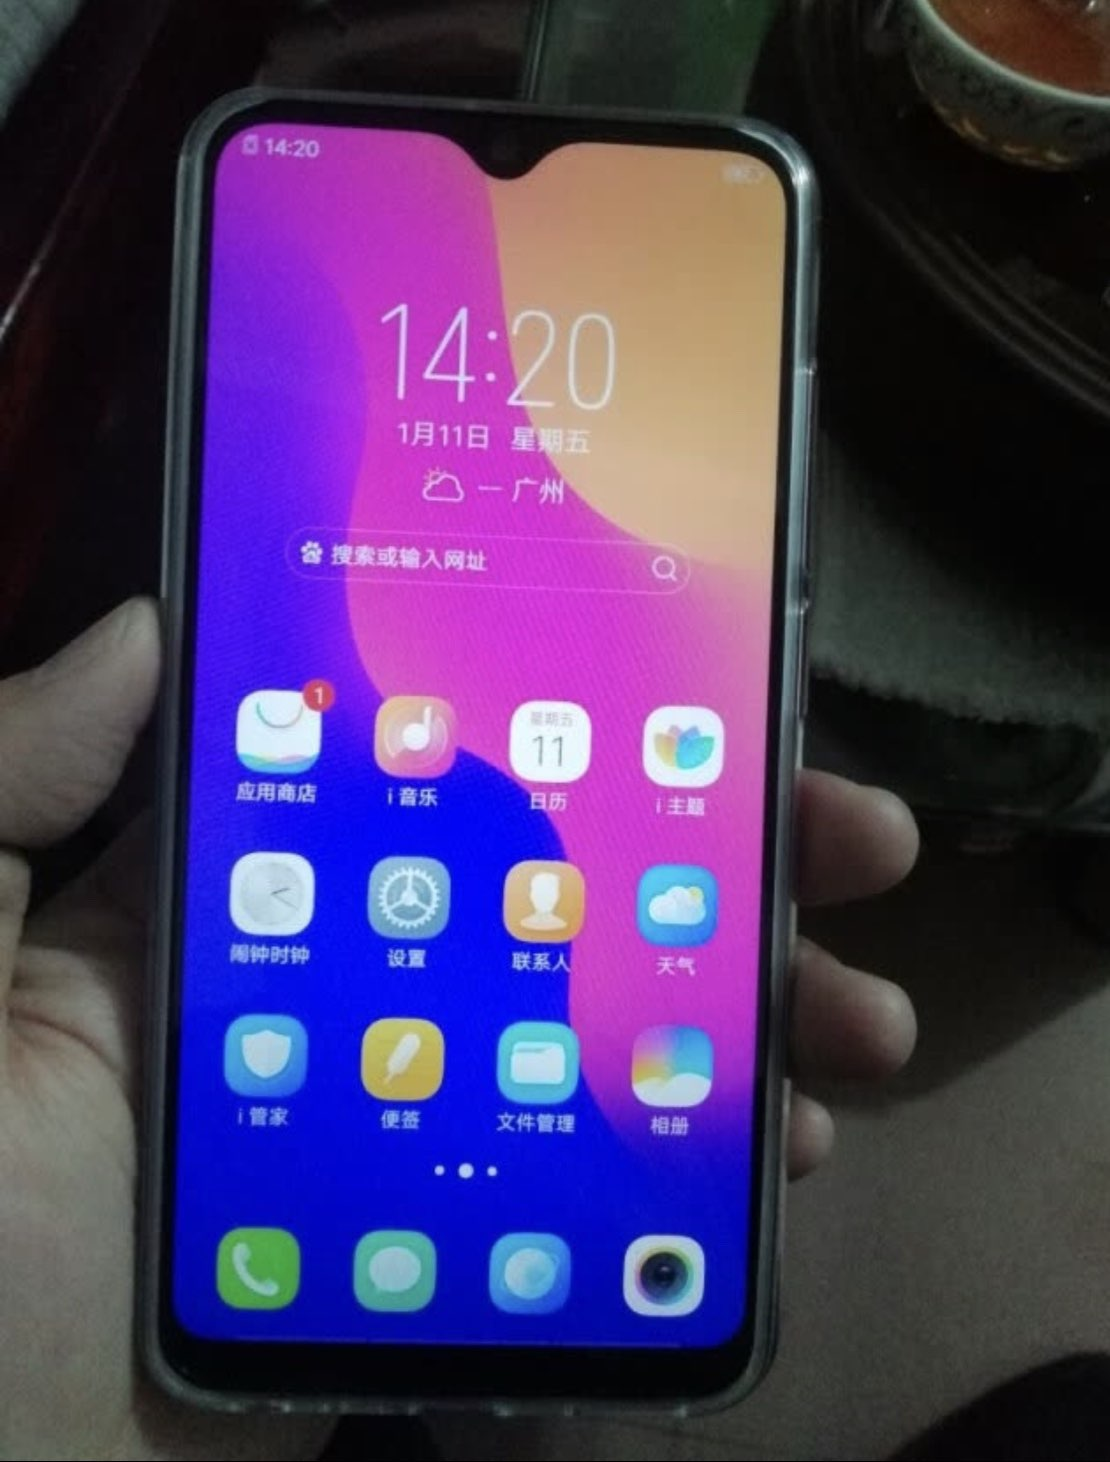mobil: (156, 59, 827, 1417)
